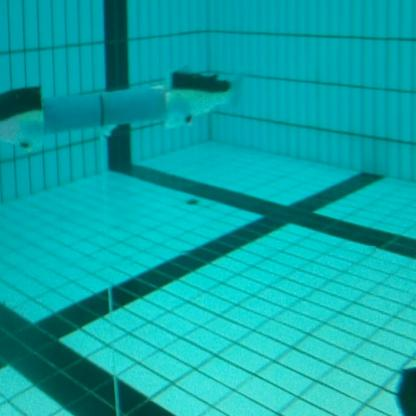tail: (164, 60, 249, 132)
